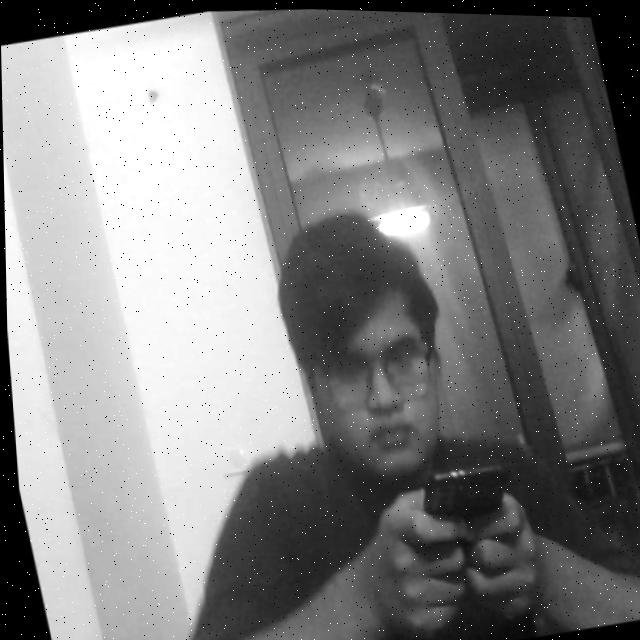phone: (385, 432, 541, 589)
